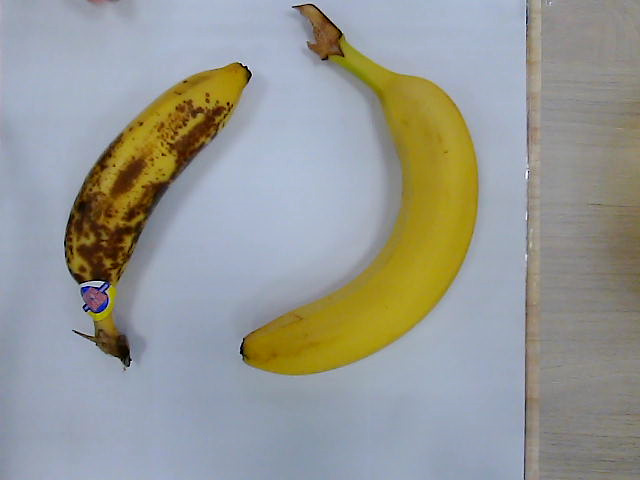fresh_banana: (244, 3, 481, 374)
rotten_banana: (65, 62, 252, 366)
